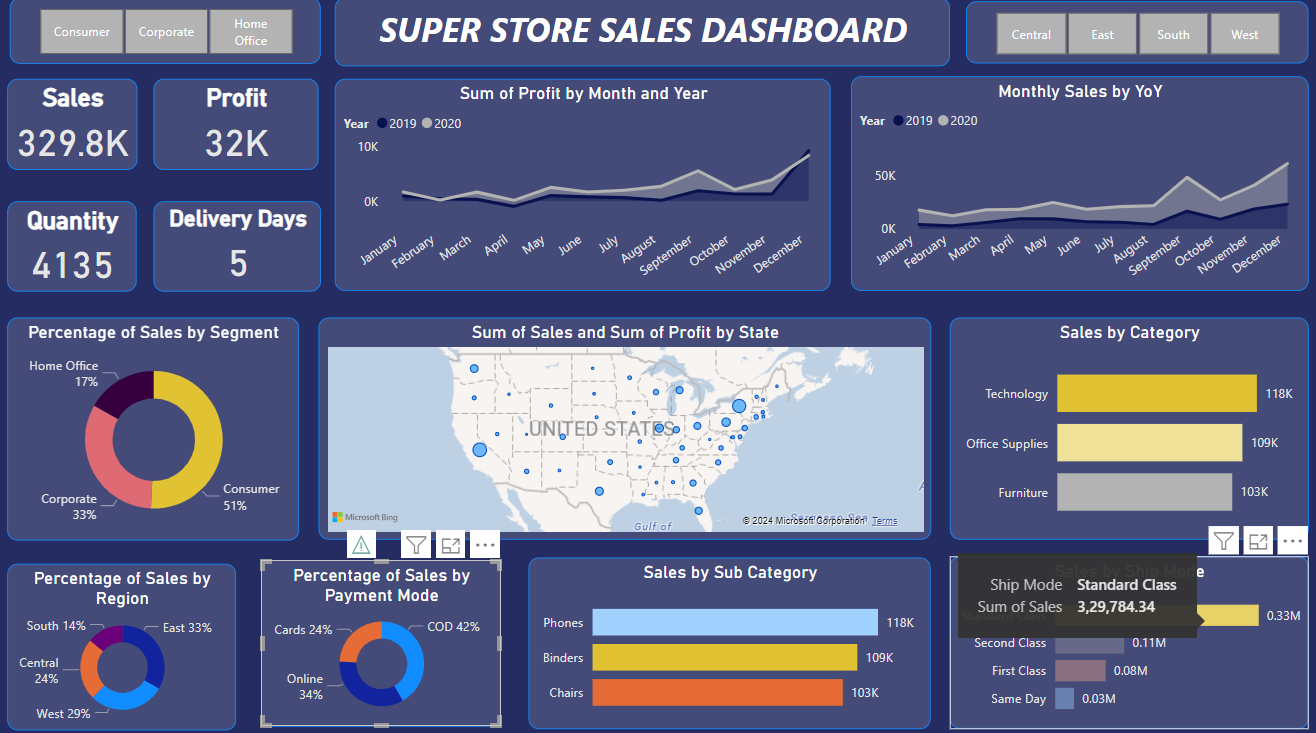

The page's visual inventory and layout, read from the dashboard file:
{"tool":"powerbi","page":{"name":"Page 1","canvas":[1280,720],"ordinal":0},"visuals":[{"type":"clusteredBarChart","title":"Sales by Category","fields":{"Category":["SuperStore_Sales_Dataset.Category"],"Y":["Sum(SuperStore_Sales_Dataset.Sales)"]},"box":[920.2,311.2,346.1,214.7],"z":0},{"type":"clusteredBarChart","title":"Sales by Sub Category","fields":{"Category":["SuperStore_Sales_Dataset.Sub-Category"],"Y":["Sum(SuperStore_Sales_Dataset.Sales)"]},"box":[513.8,542.7,388.3,165.2],"z":1000},{"type":"clusteredBarChart","title":"Sales by Ship Mode","fields":{"Category":["SuperStore_Sales_Dataset.Ship Mode"],"Y":["Sum(SuperStore_Sales_Dataset.Sales)"]},"box":[920,541.2,346.2,166.2],"z":2000},{"type":"stackedAreaChart","title":"Monthly Sales by YoY","fields":{"Y":["Sum(SuperStore_Sales_Dataset.Sales)"],"Category":["SuperStore_Sales_Dataset.Order Date.Variation.Date Hierarchy.Month","SuperStore_Sales_Dataset.Order Date.Variation.Date Hierarchy.Day"],"Series":["SuperStore_Sales_Dataset.Order Date.Variation.Date Hierarchy.Year"]},"box":[825,78.8,441.2,207.5],"z":3000},{"type":"stackedAreaChart","fields":{"Category":["SuperStore_Sales_Dataset.Order Date.Variation.Date Hierarchy.Month","SuperStore_Sales_Dataset.Order Date.Variation.Date Hierarchy.Day"],"Series":["SuperStore_Sales_Dataset.Order Date.Variation.Date Hierarchy.Year"],"Y":["Sum(SuperStore_Sales_Dataset.Profit)"]},"box":[326.2,81.2,478.8,205],"z":4000},{"type":"map","fields":{"Category":["SuperStore_Sales_Dataset.State"],"Size":["Sum(SuperStore_Sales_Dataset.Sales)"]},"box":[311.2,311.2,591,214.7],"z":5000},{"type":"donutChart","title":"Percentage of Sales by Segment","fields":{"Category":["SuperStore_Sales_Dataset.Segment"],"Y":["Sum(SuperStore_Sales_Dataset.Sales)"]},"box":[11.2,311.2,281.2,215],"z":6000},{"type":"donutChart","title":"Percentage of Sales by Payment Mode","fields":{"Category":["SuperStore_Sales_Dataset.Payment Mode"],"Y":["Sum(SuperStore_Sales_Dataset.Sales)"]},"box":[255.7,545.1,231.6,160.4],"z":7000},{"type":"slicer","fields":{"Values":["SuperStore_Sales_Dataset.Region"]},"box":[936.2,6.2,330,60],"z":8000},{"type":"textbox","box":[326.2,2.5,593.8,66.2],"z":9000},{"type":"card","title":"Sales","fields":{"Values":["Sum(SuperStore_Sales_Dataset.Sales)"]},"box":[11.2,81.2,125,87.5],"z":10000},{"type":"card","title":"Quantity","fields":{"Values":["Sum(SuperStore_Sales_Dataset.Quantity)"]},"box":[11.2,198.8,125,87.5],"z":11000},{"type":"card","title":"Profit","fields":{"Values":["Sum(SuperStore_Sales_Dataset.Profit)"]},"box":[161.2,81.2,152.5,87.5],"z":12000},{"type":"card","title":"Delivery Days","fields":{"Values":["Avg(SuperStore_Sales_Dataset.AvgDelievery)"]},"box":[162.5,198.8,151.2,87.5],"z":13000},{"type":"donutChart","title":"Percentage of Sales by Region","fields":{"Category":["SuperStore_Sales_Dataset.Region"],"Y":["Sum(SuperStore_Sales_Dataset.Sales)"]},"box":[10.9,548.7,220.7,160.4],"z":14000},{"type":"slicer","fields":{"Values":["SuperStore_Sales_Dataset.Segment"]},"box":[11.2,2.5,300,63.8],"z":15000}]}

Visuals, with their boxes in screenshot pixels (x1, y1, x2, y2), scaled from the page's 1280x720 canvas onto the 1316x733 screenshot:
"Sales by Category" clusteredBarChart: detection(946, 317, 1302, 535)
"Sales by Sub Category" clusteredBarChart: detection(528, 552, 927, 721)
"Sales by Ship Mode" clusteredBarChart: detection(946, 551, 1302, 720)
"Monthly Sales by YoY" stackedAreaChart: detection(848, 80, 1302, 291)
stackedAreaChart - SuperStore_Sales_Dataset.Order Date.Variation.Date Hierarchy.Month x SuperStore_Sales_Dataset.Order Date.Variation.Date Hierarchy.Day: detection(335, 83, 828, 291)
map - SuperStore_Sales_Dataset.State x Sum(SuperStore_Sales_Dataset.Sales): detection(320, 317, 928, 535)
"Percentage of Sales by Segment" donutChart: detection(12, 317, 301, 536)
"Percentage of Sales by Payment Mode" donutChart: detection(263, 555, 501, 718)
slicer - SuperStore_Sales_Dataset.Region: detection(963, 6, 1302, 67)
textbox: detection(335, 3, 946, 70)
"Sales" card: detection(12, 83, 140, 172)
"Quantity" card: detection(12, 202, 140, 291)
"Profit" card: detection(166, 83, 323, 172)
"Delivery Days" card: detection(167, 202, 323, 291)
"Percentage of Sales by Region" donutChart: detection(11, 559, 238, 722)
slicer - SuperStore_Sales_Dataset.Segment: detection(12, 3, 320, 67)
